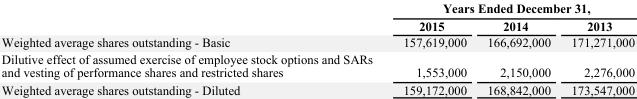table: (0, 0, 634, 96)
table column: (0, 0, 387, 96), (387, 0, 476, 96), (476, 0, 560, 96), (560, 0, 634, 96)
table column header: (0, 0, 634, 33)
table row: (0, 50, 634, 80), (0, 16, 634, 33), (0, 33, 634, 50), (0, 0, 634, 16), (0, 80, 634, 96)
table spanning cell: (387, 0, 634, 16)
